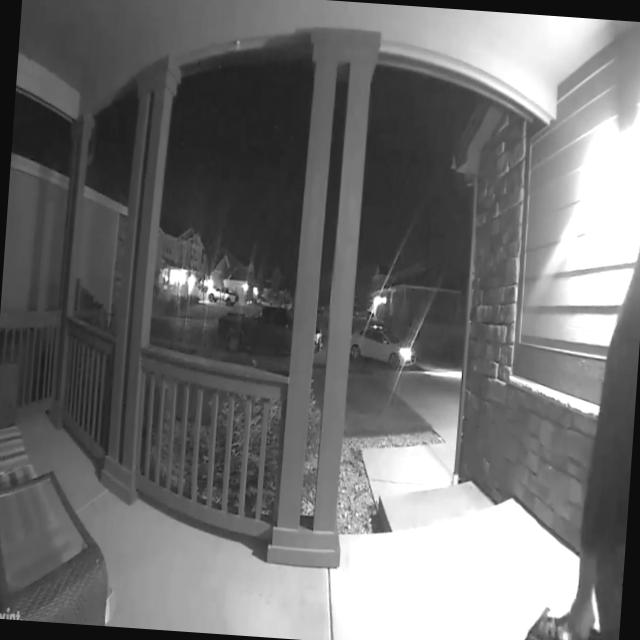car: (213, 295, 290, 376), (348, 316, 429, 378), (200, 280, 238, 310)
